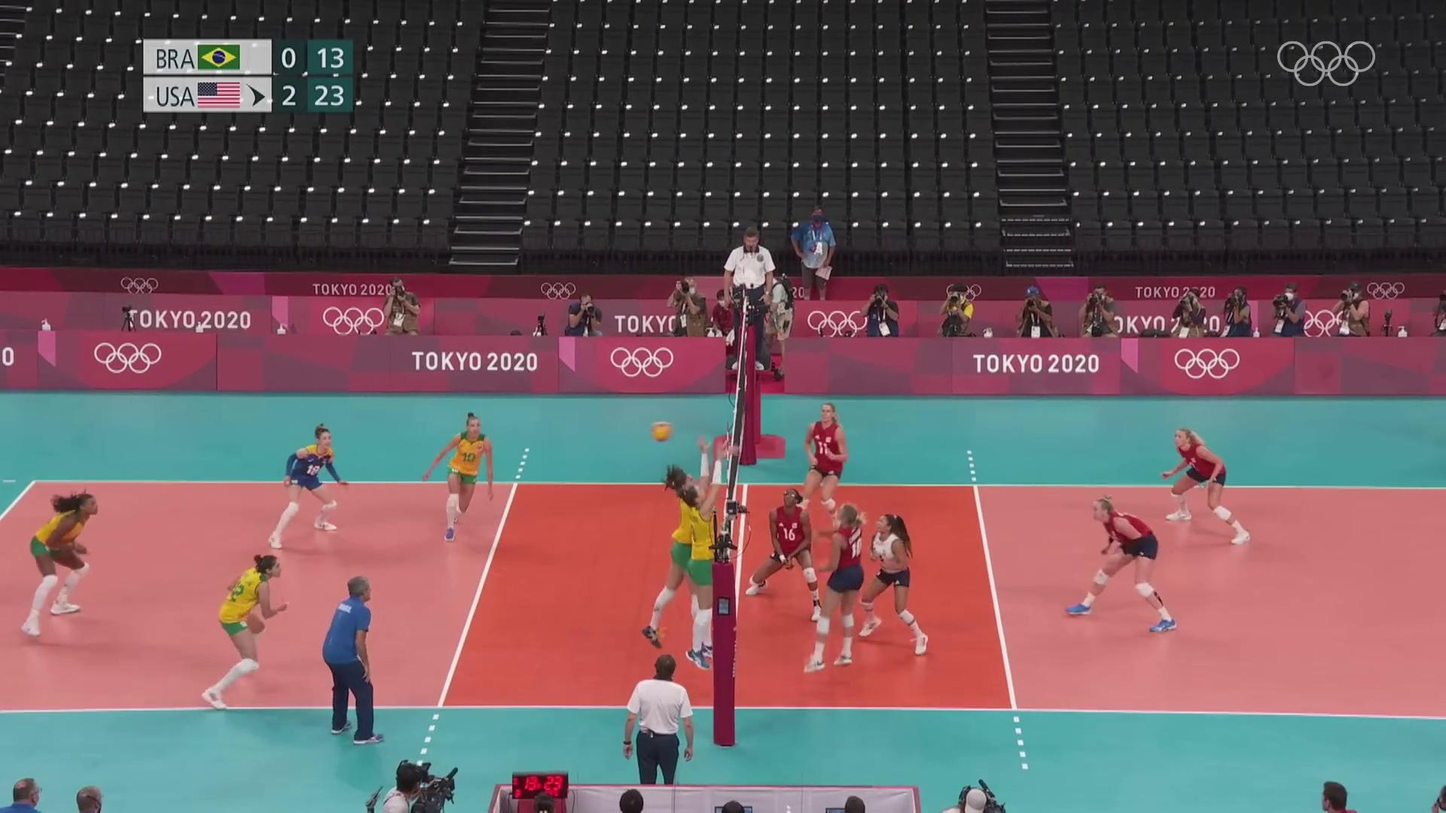player: (639, 469, 720, 657), (1066, 498, 1175, 632), (205, 554, 290, 707), (1160, 426, 1256, 547), (22, 494, 100, 637), (421, 412, 500, 545), (860, 512, 932, 656), (805, 505, 866, 674), (268, 424, 349, 548), (748, 490, 824, 620), (685, 445, 728, 674), (794, 400, 860, 535)
refree: (624, 656, 698, 788), (723, 228, 779, 374)
